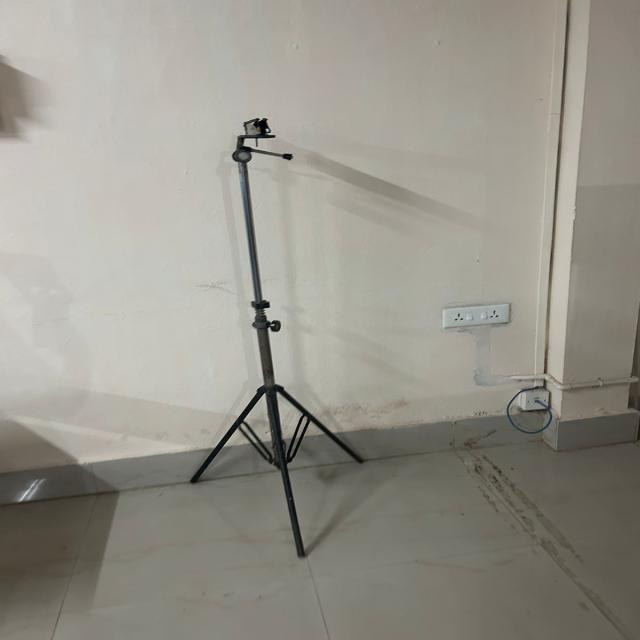barrier ahead at: (198, 101, 365, 564)
